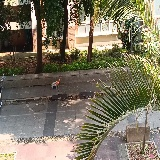fire: (56, 79, 60, 84)
